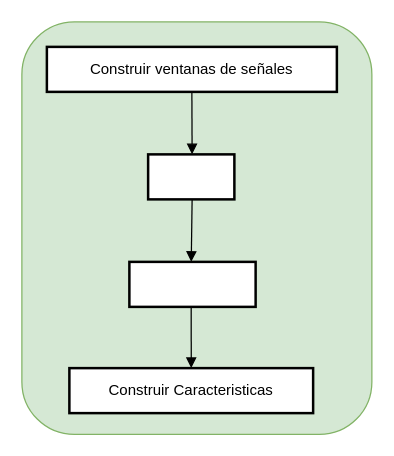
This 394x456 diagram has some shape labels left out. Each missing label, with the box of its shape:
FastICA: (146, 152, 235, 200)
mDWT Haar: (128, 260, 256, 308)
